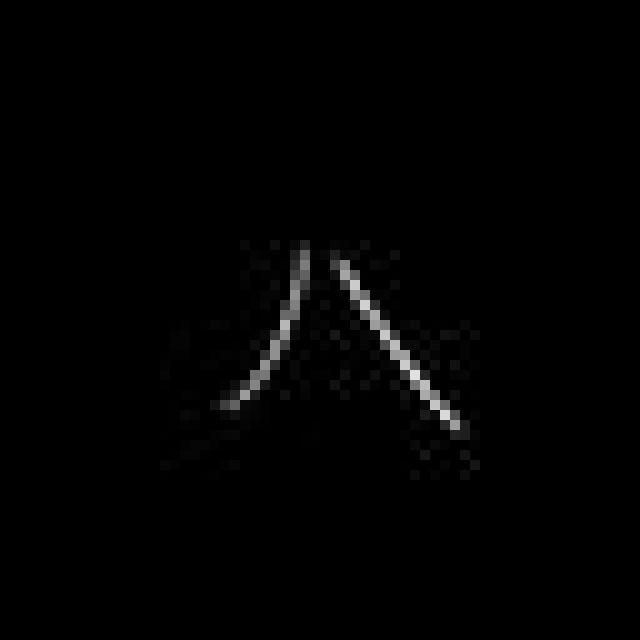8 -eight-: (198, 222, 471, 456)
